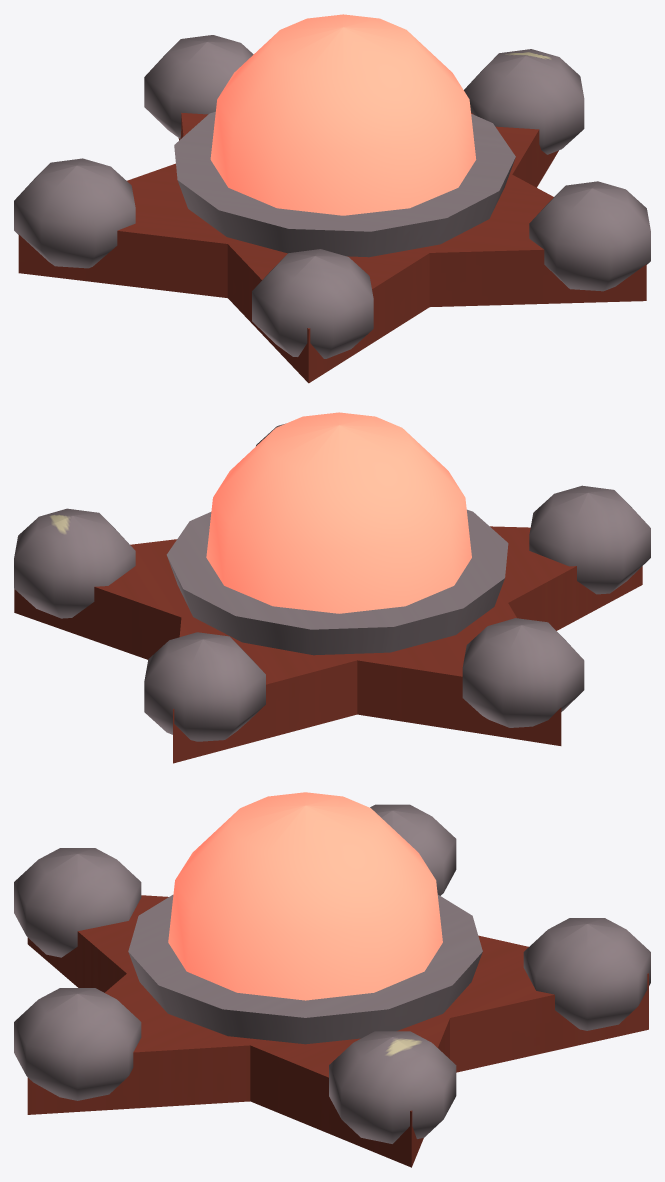
Rendered from R4D_ExplosiveTrap_LOD1.glb.
3 renders of one model, top to bottom at view 1: azimuth 30°, elevation 25°; view 2: azimuth 150°, elevation 25°; view 3: azimuth 270°, elevation 25°, orthographic. The views are drawn at different scales.
Visible parts, largest first — view 1: R4D_ExplosiveTrap_LOD1; view 2: R4D_ExplosiveTrap_LOD1; view 3: R4D_ExplosiveTrap_LOD1.
Part boxes in pixels (bbox=[...]): R4D_ExplosiveTrap_LOD1: bbox=[14, 14, 650, 383]; R4D_ExplosiveTrap_LOD1: bbox=[14, 412, 650, 763]; R4D_ExplosiveTrap_LOD1: bbox=[14, 792, 650, 1167].
Bounding box in the file's own units: 0.4803 × 0.18 × 0.4636.
Materials: 3 (2 with a texture image).
